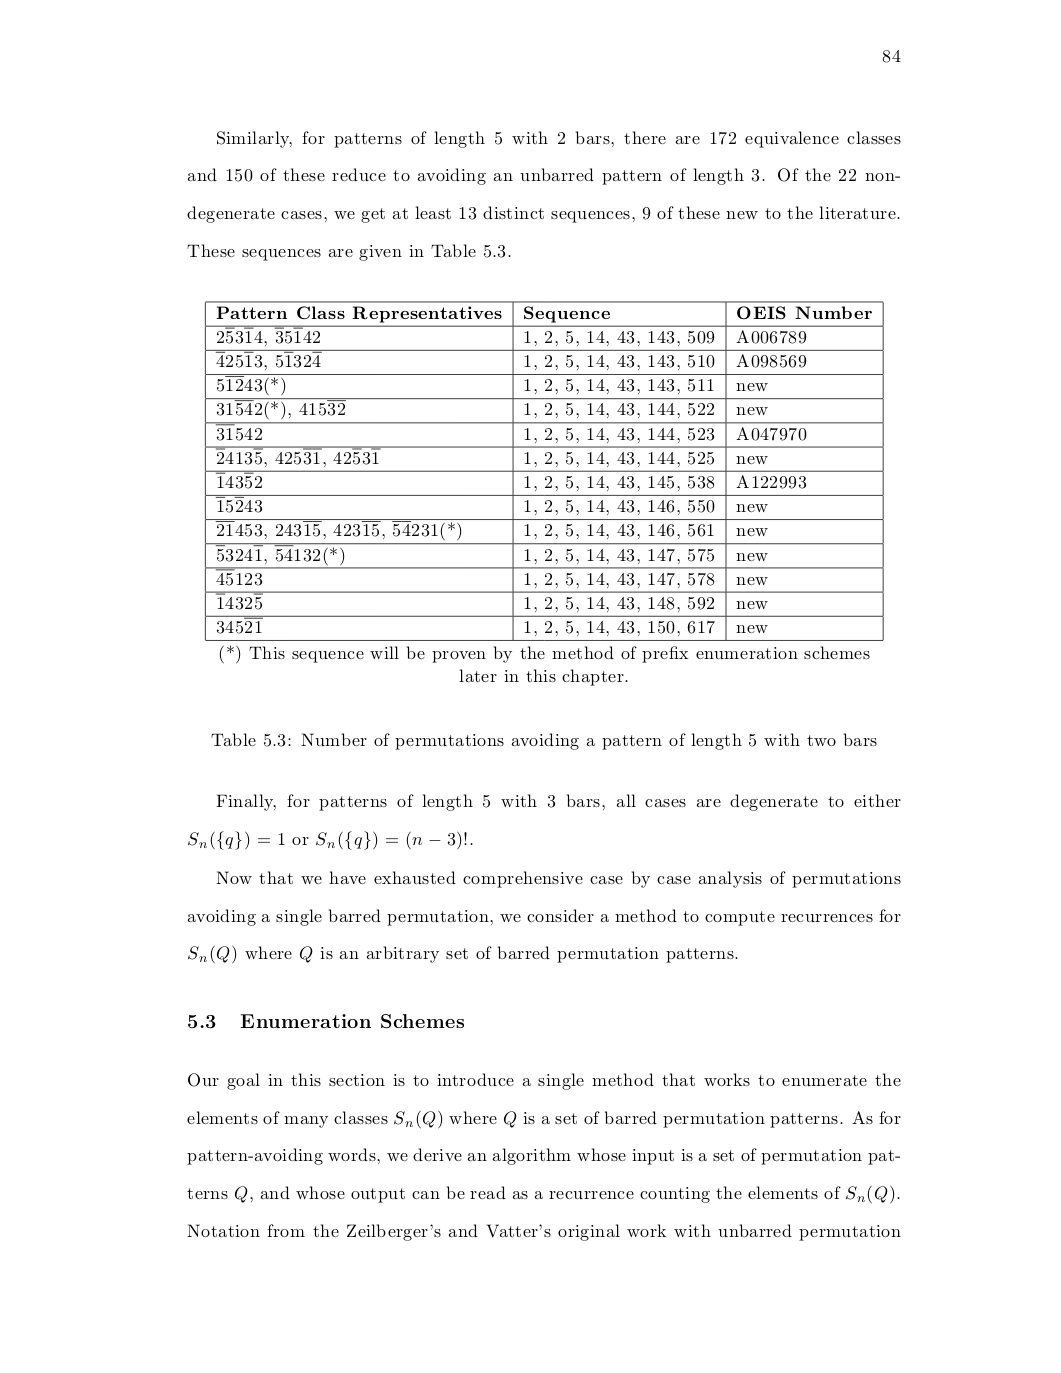Table: (204, 300, 883, 641)
formula: (188, 830, 473, 850)
